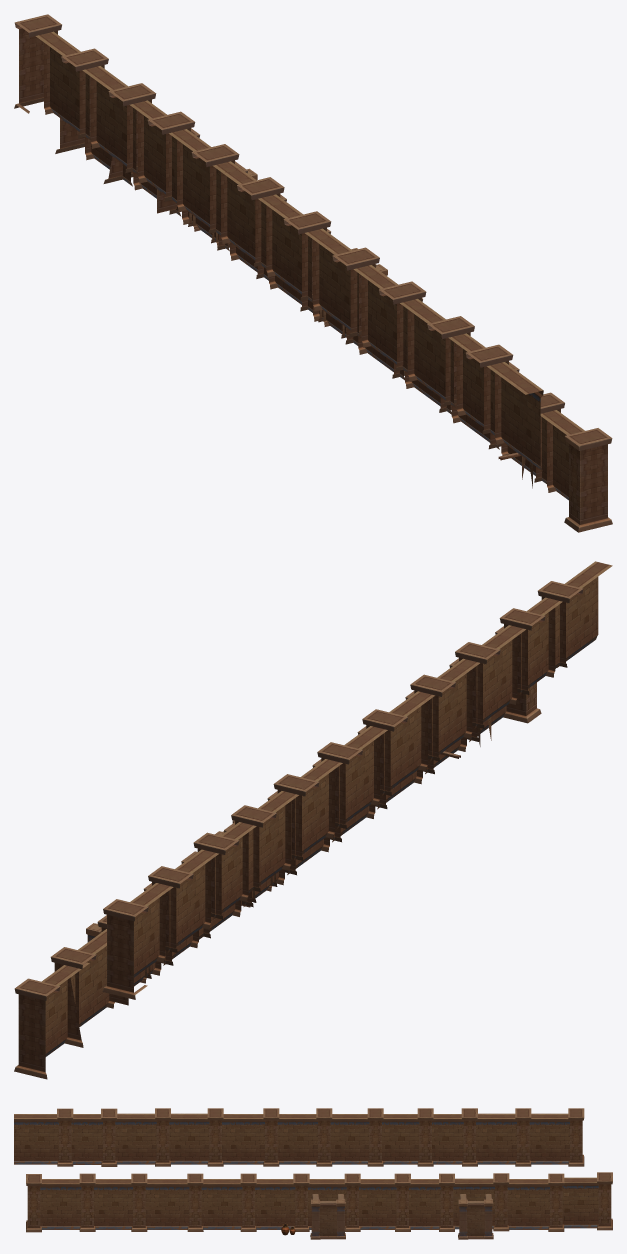
Rendered from Area_11_2.fbx.
3 views of the same model, one above another, from view 1: azimuth 30°, elevation 25°; view 2: azimuth 150°, elevation 25°; view 3: azimuth 270°, elevation 25° (orthographic). The views are drawn at different scales.
Parts seen in each view (by area): view 1: Area_11_2; view 2: Area_11_2; view 3: Area_11_2.
Boxes of the visible parts, x1,y1,x2,y2 form: Area_11_2: (14,14,612,532); Area_11_2: (14,561,612,1079); Area_11_2: (14,1108,612,1239).
Size of the model in its own units: 1234 by 1480 by 8451.
